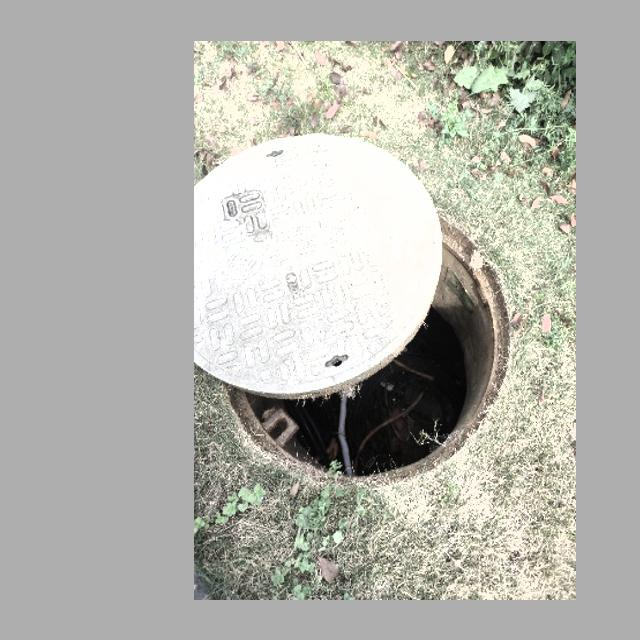uncovered: (194, 130, 512, 484)
